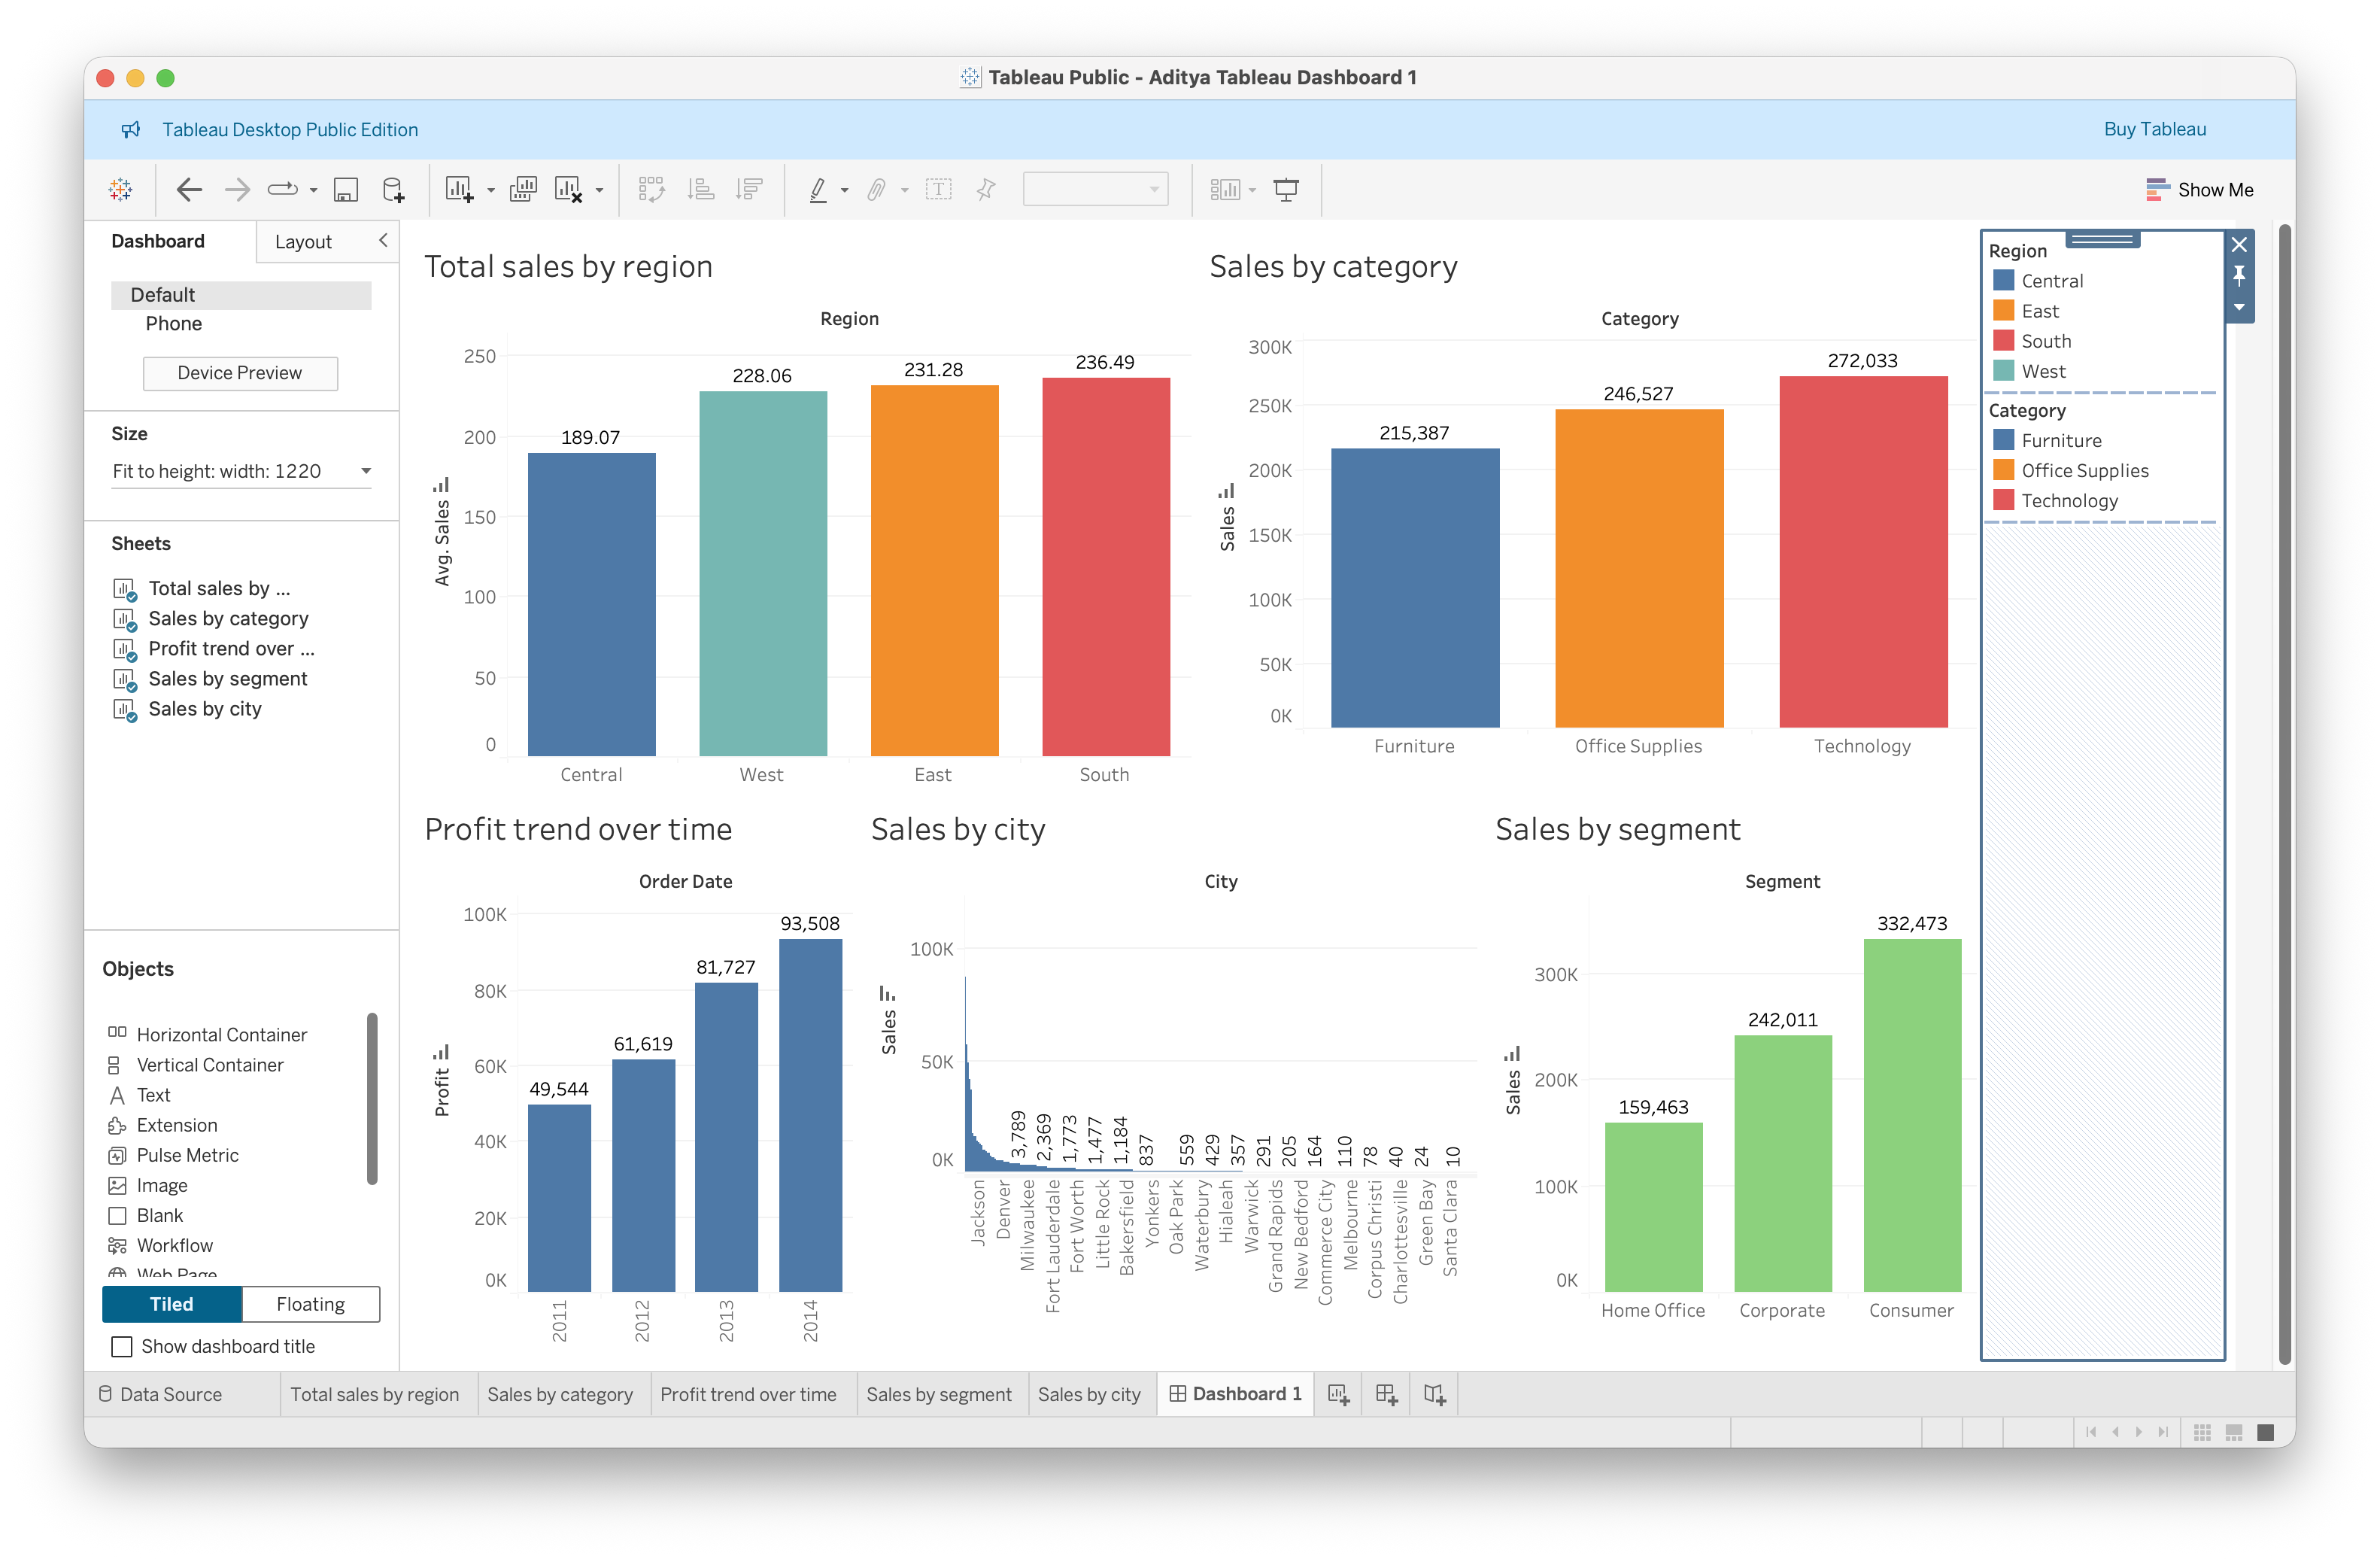

The page's visual inventory and layout, read from the dashboard file:
{"tool":"tableau","page":{"name":"Dashboard 1","canvas":[1000,1000],"units":"permille","ordinal":0},"visuals":[{"type":"worksheet","title":"Total sales by region","mark":"Bar","rows":["Sales"],"cols":["Region"],"box":[6.6,10.5,427.9,489.5]},{"type":"worksheet","title":"Sales by category","mark":"Bar","rows":["Sales"],"cols":["Category"],"box":[434.4,10.5,427.9,489.5]},{"type":"legend","title":"Total sales by region","param":"[federated.1icy1or1taocwz14k8ynx0m57jsf].[none:Region:nk]","box":[862.3,10.5,131.2,138.7]},{"type":"legend","title":"Sales by category","param":"[federated.1icy1or1taocwz14k8ynx0m57jsf].[none:Category:nk]","box":[862.3,149.2,131.2,112.6]},{"type":"worksheet","title":"Profit trend over time","mark":"Automatic","rows":["Profit"],"cols":["Order Date"],"box":[6.6,500,243.4,489.5]},{"type":"worksheet","title":"Sales by city","mark":"Automatic","rows":["Sales"],"cols":["City"],"box":[250,500,340.2,489.5]},{"type":"worksheet","title":"Sales by segment","mark":"Automatic","rows":["Sales"],"cols":["Segment"],"box":[590.2,500,272.1,489.5]}]}

Visuals, with their boxes on the dashboard's canvas, which has no fixed pixel size, in thousandths of its width and height (x1, y1, x2, y2). These are canvas units, not pixel positions in the 2380x1559 screenshot, which may show the page scaled, cropped or inside an application window:
"Total sales by region" worksheet (Bar marks): bbox=[7, 10, 434, 500]
"Sales by category" worksheet (Bar marks): bbox=[434, 10, 862, 500]
"Total sales by region" legend: bbox=[862, 10, 994, 149]
"Sales by category" legend: bbox=[862, 149, 994, 262]
"Profit trend over time" worksheet: bbox=[7, 500, 250, 990]
"Sales by city" worksheet: bbox=[250, 500, 590, 990]
"Sales by segment" worksheet: bbox=[590, 500, 862, 990]
